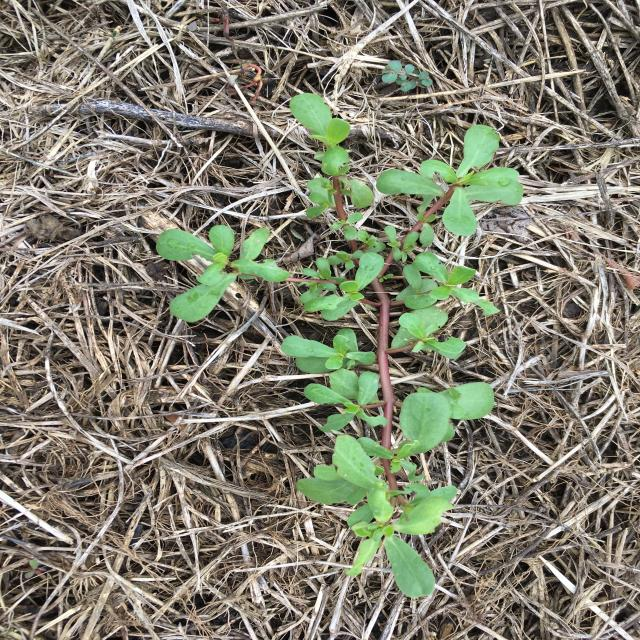Purslane: (155, 93, 524, 599)
SpottedSpurge: (382, 60, 432, 92)
